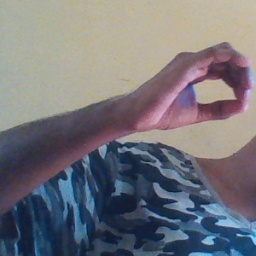O: (129, 38, 254, 134)
